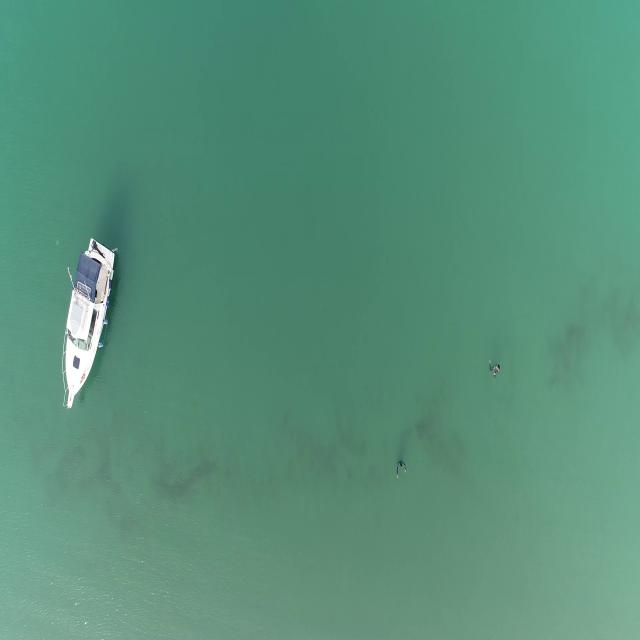boat: (58, 238, 119, 413)
person: (395, 459, 408, 482), (489, 358, 500, 381)
